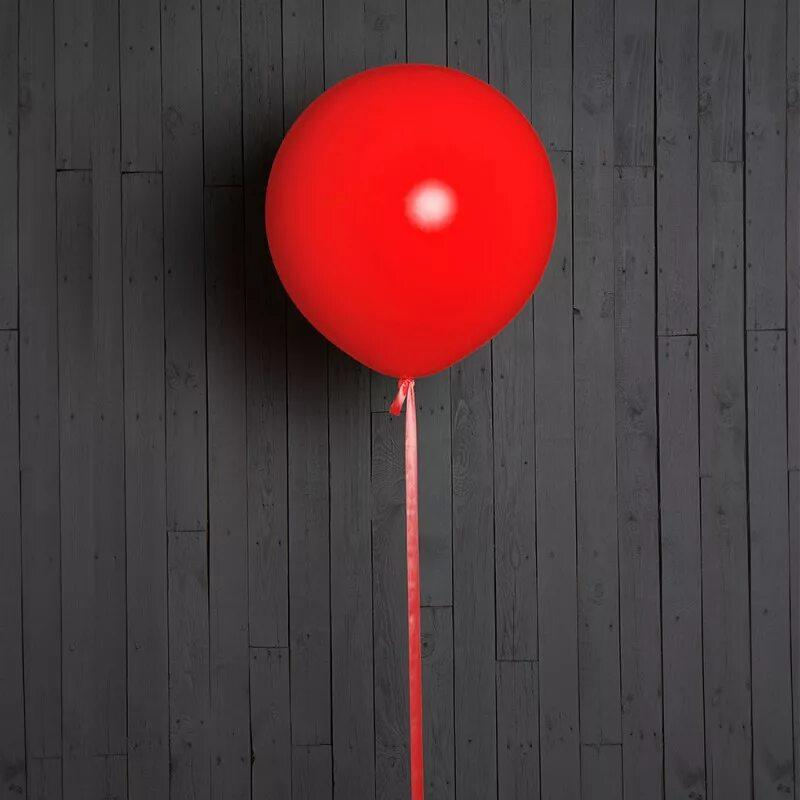red: (255, 54, 566, 407)
